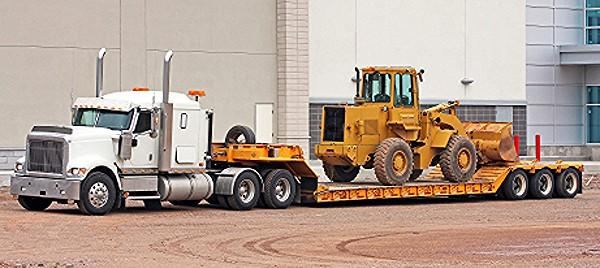truck: (10, 80, 318, 213)
